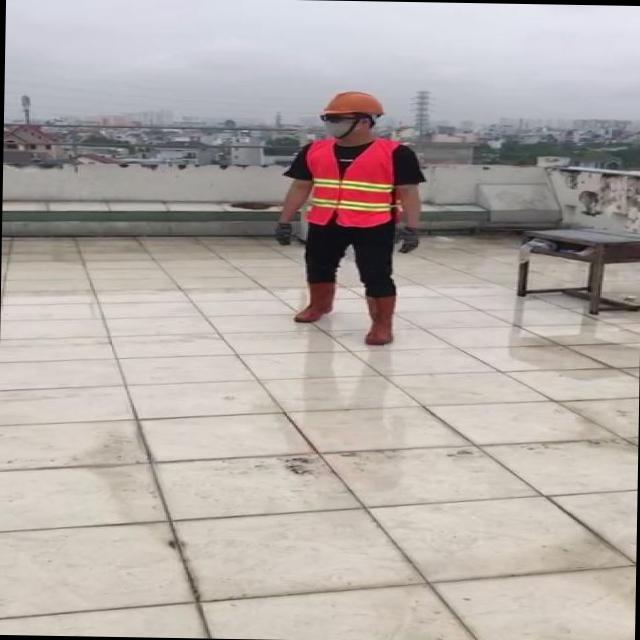hard_hat: (318, 89, 389, 118)
safety_vest: (300, 138, 398, 226)
vehicle: (261, 88, 428, 352)
work_boots: (360, 292, 400, 346), (295, 280, 335, 322)
